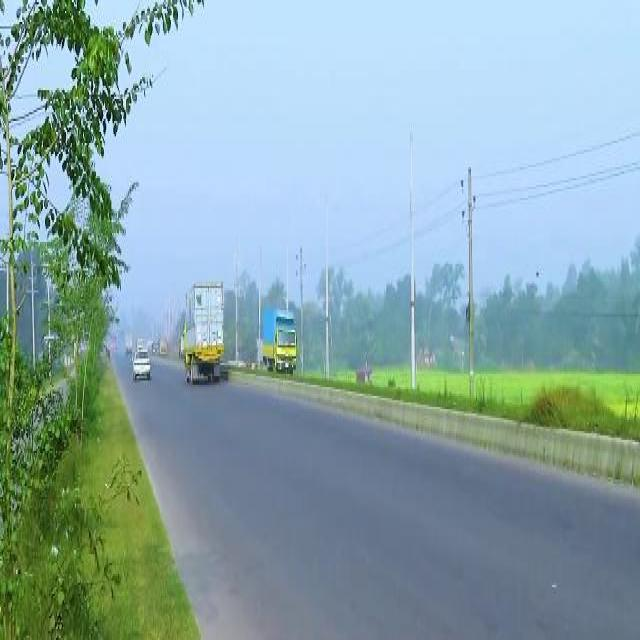vehicle: (184, 285, 225, 379), (262, 308, 297, 369), (133, 352, 151, 383), (160, 336, 169, 354), (137, 338, 144, 349)
